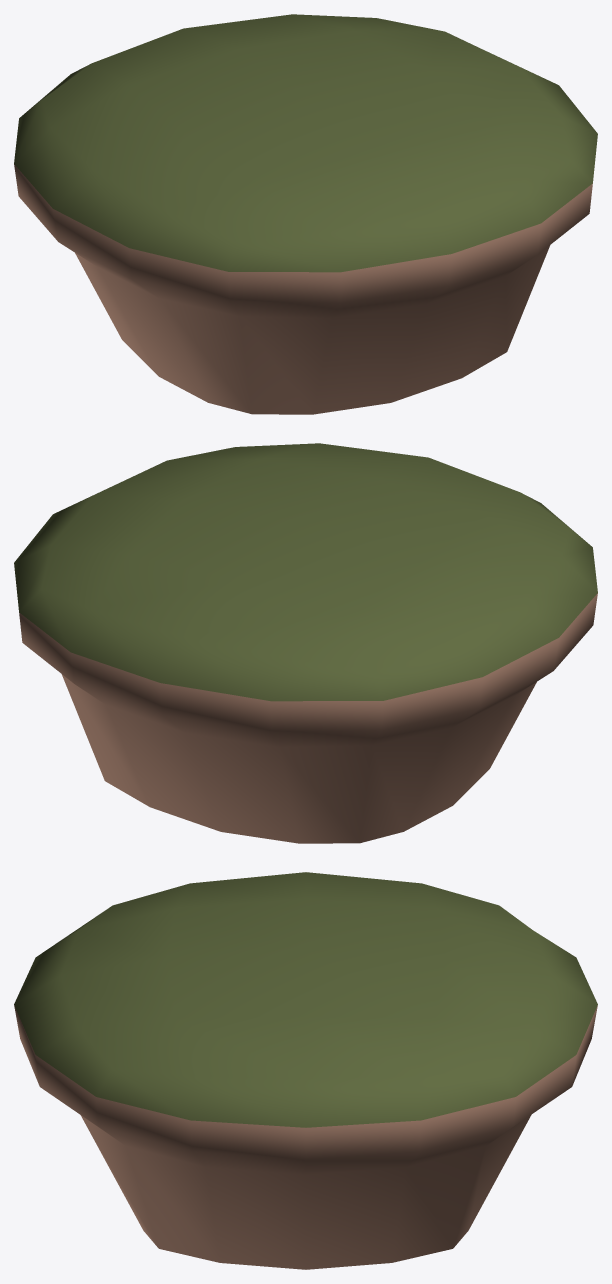
File: cubremont_B.fbx
3 renders of one model, top to bottom at view 1: azimuth 30°, elevation 25°; view 2: azimuth 150°, elevation 25°; view 3: azimuth 270°, elevation 25°, orthographic.
Parts seen in each view (by area): view 1: cubremont_B; view 2: cubremont_B; view 3: cubremont_B.
Boxes of the visible parts, x1,y1,x2,y2 form: cubremont_B: [14, 14, 597, 414]; cubremont_B: [14, 443, 597, 843]; cubremont_B: [14, 872, 597, 1269].
Size of the model in its own units: 122 by 62.24 by 122.
